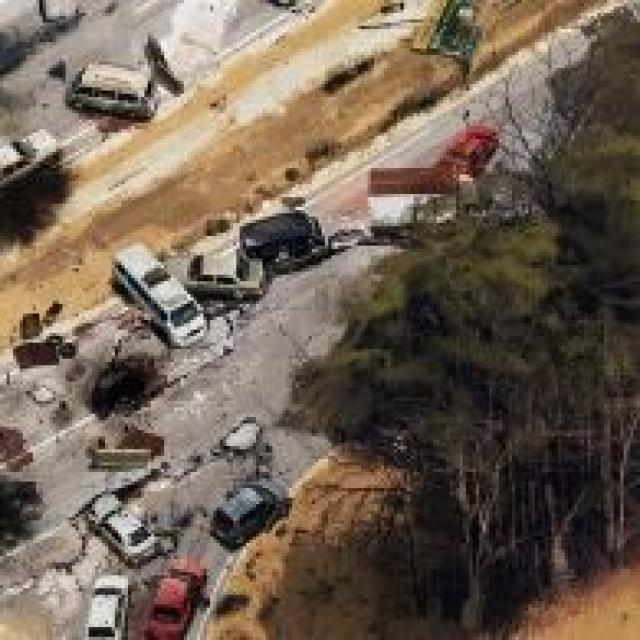traffic_incident: (351, 123, 502, 233), (174, 200, 322, 300), (197, 472, 282, 543), (79, 492, 151, 560), (69, 68, 148, 123)
